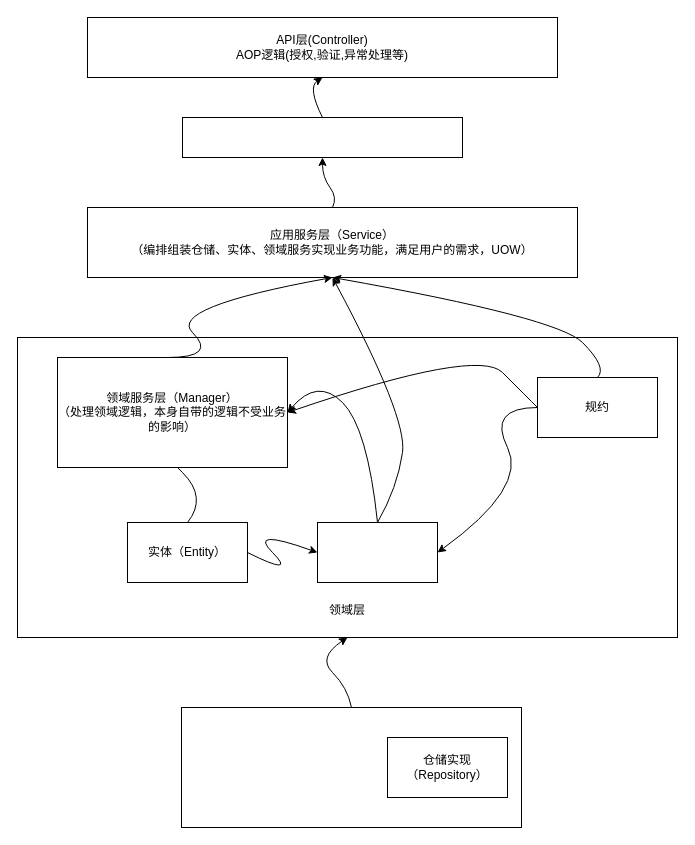
This 695x845 diagram has some shape labels left out. Each missing label, with the box of its shape:
DTO (输入DTO不要重复使用，输出DTO可以重复使用): (182, 116, 462, 158)
EF core: (180, 706, 522, 828)
仓储接口（IRepository）: (316, 522, 438, 582)
